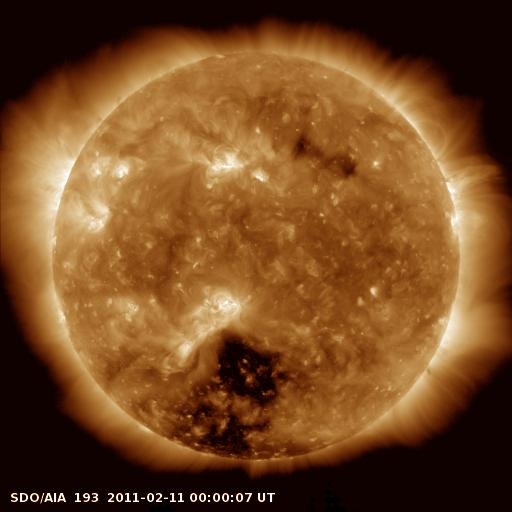coronal_hole: (164, 329, 287, 458), (286, 132, 359, 176)
